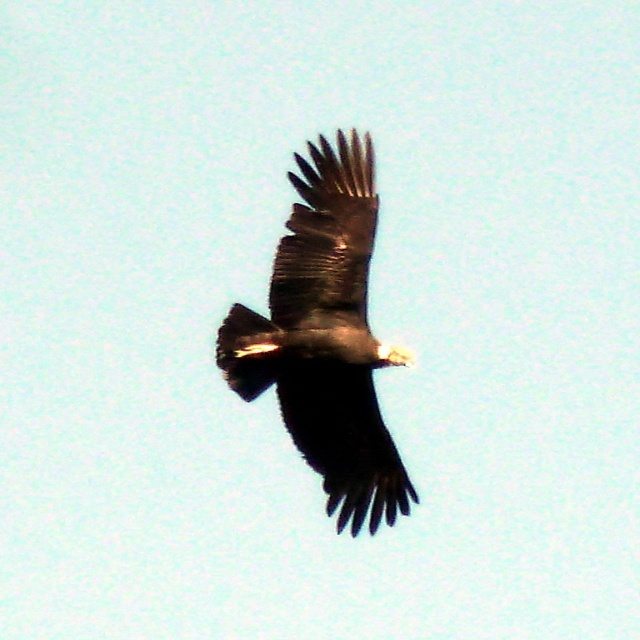Eagle: (203, 119, 429, 541)
